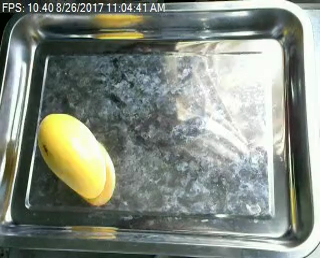Mango: (29, 108, 109, 197)
